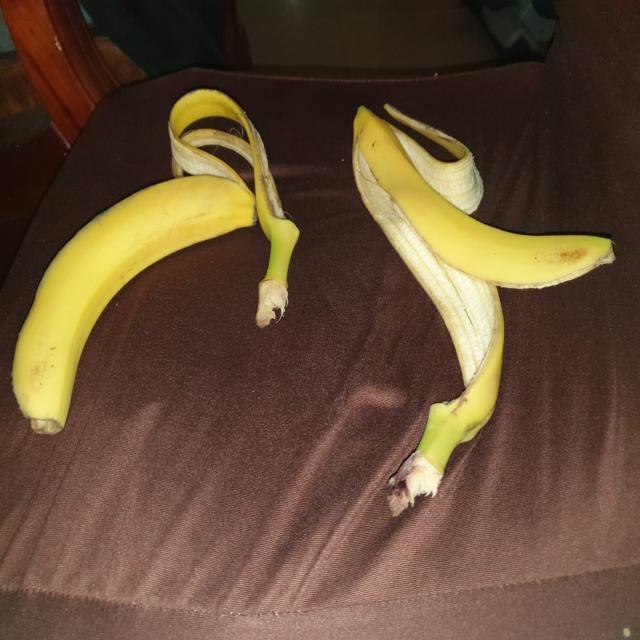banana-peel: (350, 101, 616, 518), (10, 86, 300, 435)
